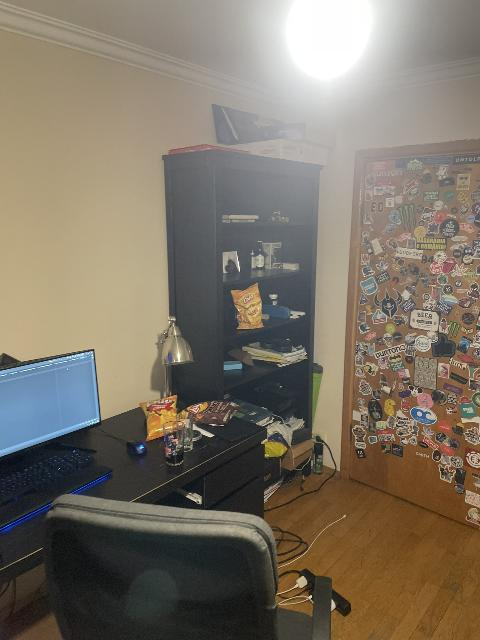Chio Cascaval 125g: (138, 394, 181, 439)
Chio Hula Hoops Cheese 70g: (230, 283, 265, 329)
Lays Beef Grilled Ribs 125g: (188, 400, 242, 426)
